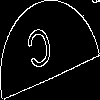C: (25, 25, 56, 80)
